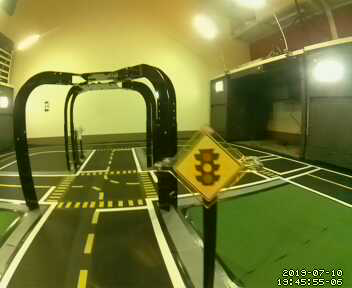Traffic light sign: (173, 134, 242, 201)
